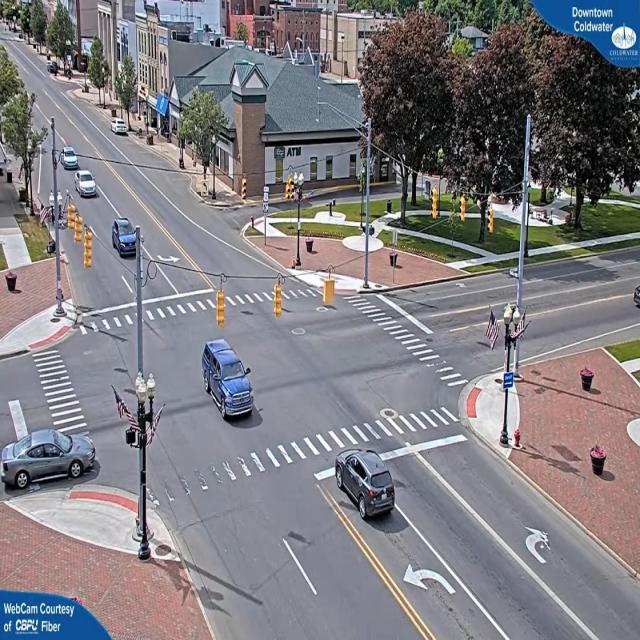car: (4, 423, 99, 489), (334, 452, 398, 522), (202, 340, 255, 424), (111, 218, 140, 256), (76, 172, 96, 199), (60, 148, 78, 170), (633, 281, 639, 310)
